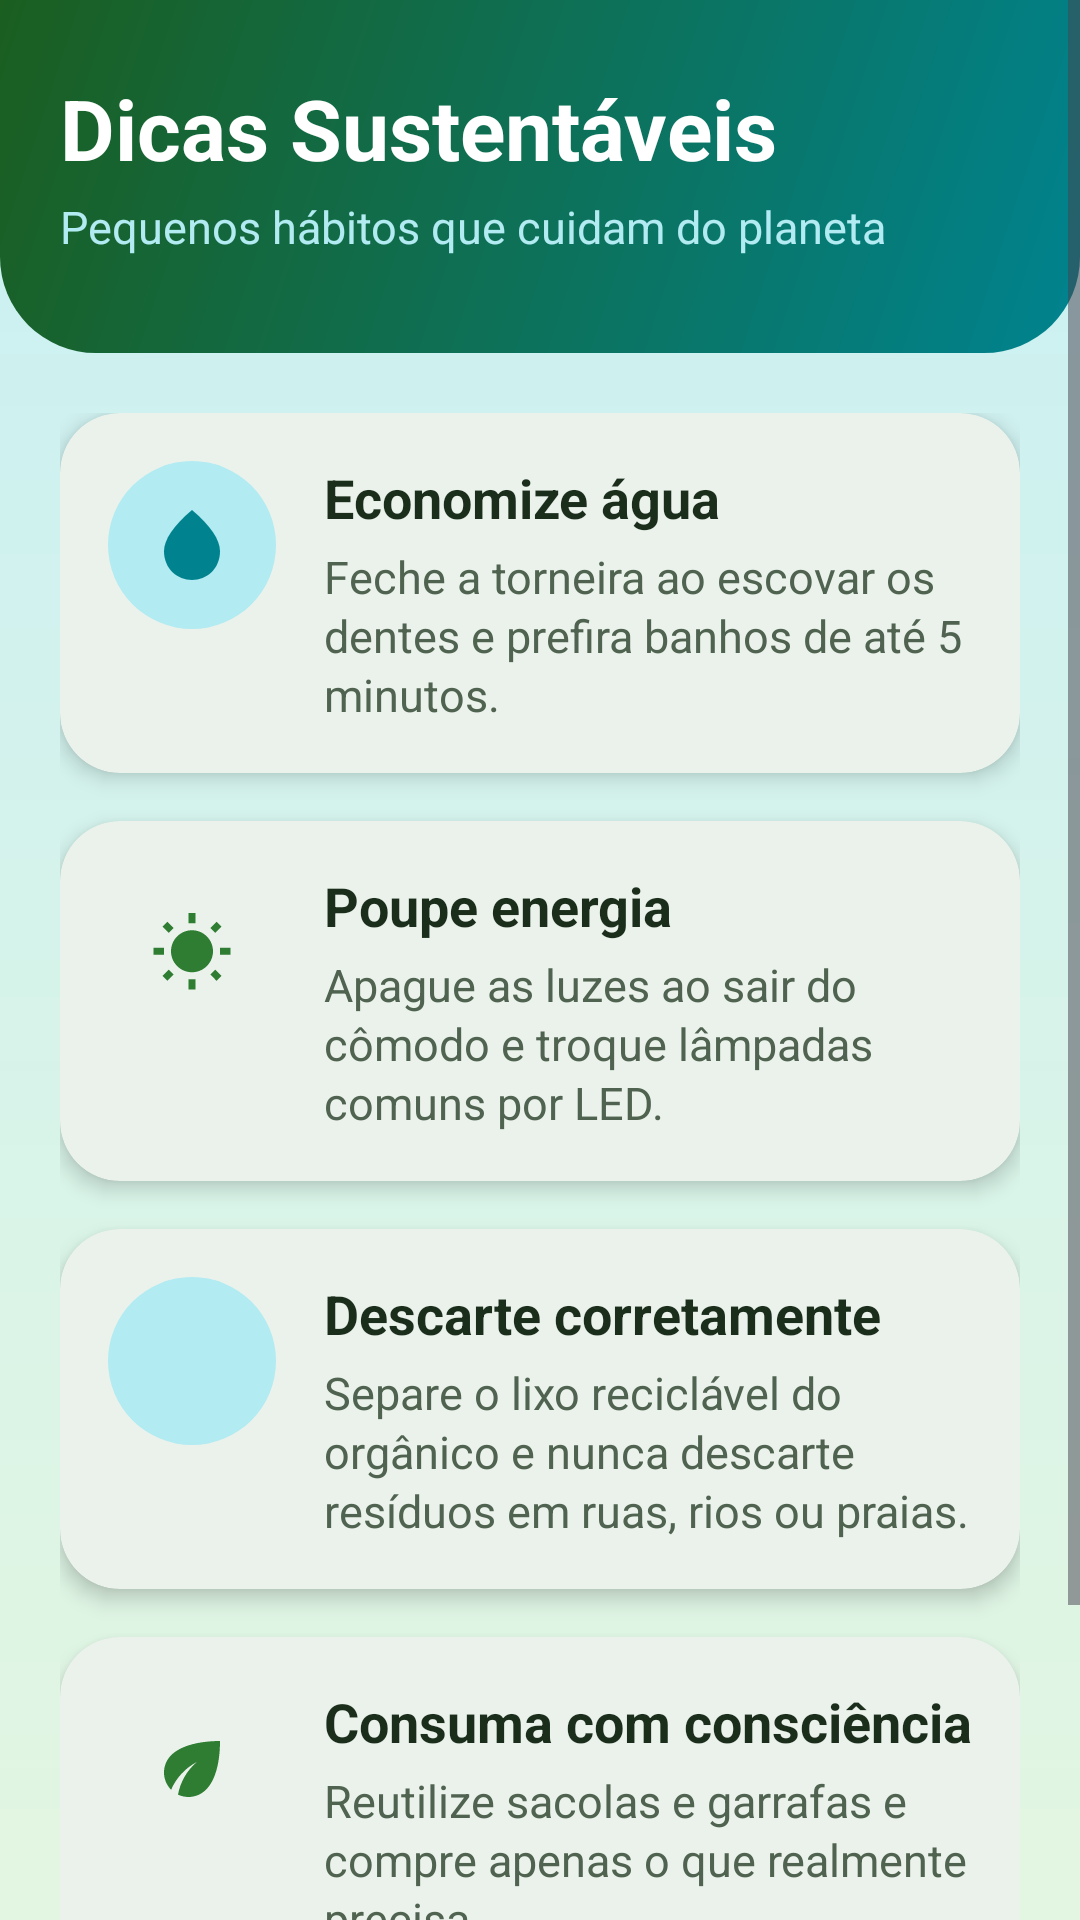

Named icons in this screenshot (1080w x 1920h) and their centers, (x=x, y=y):
agua: (x=192, y=545)
folha: (x=192, y=1769)
sol: (x=192, y=951)
